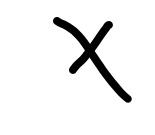mult: (53, 16, 132, 103)
